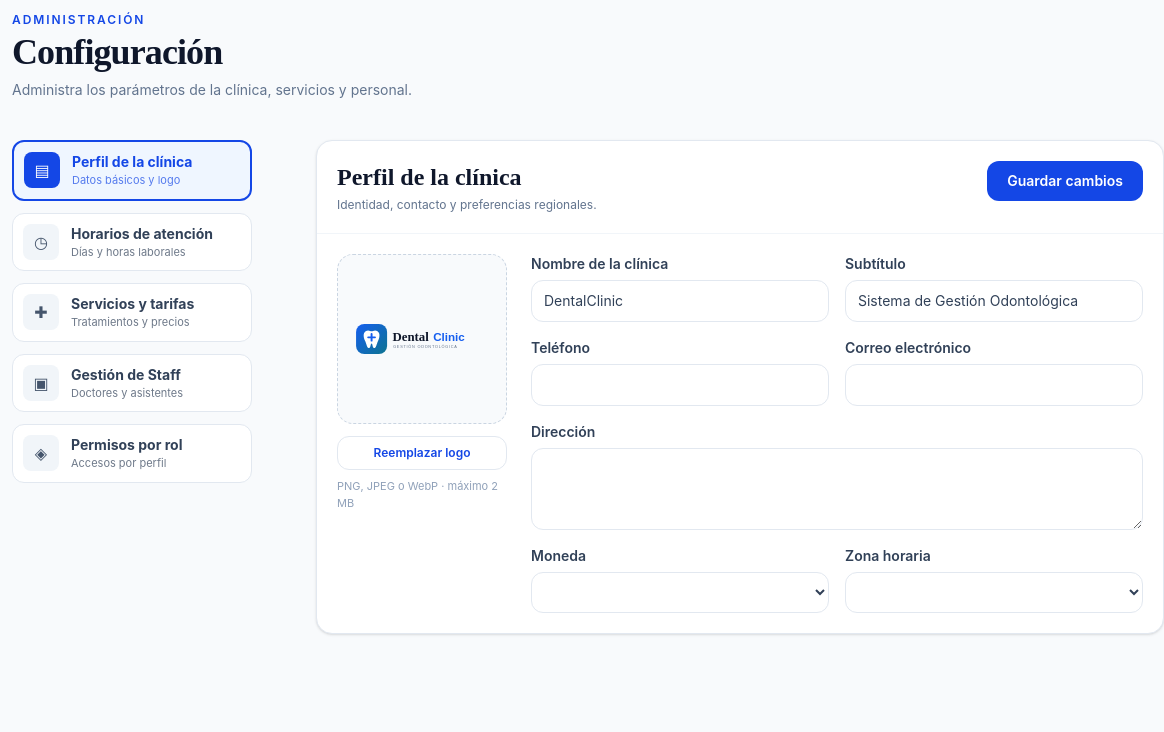
Scenario: SettingsPage staff management › switches from active users to archived users using backend filtering
Click the button "▣ Gestión de Staff Doctores y asistentes". click: (132, 383)
box: x1=12 y1=354 x2=252 y2=412
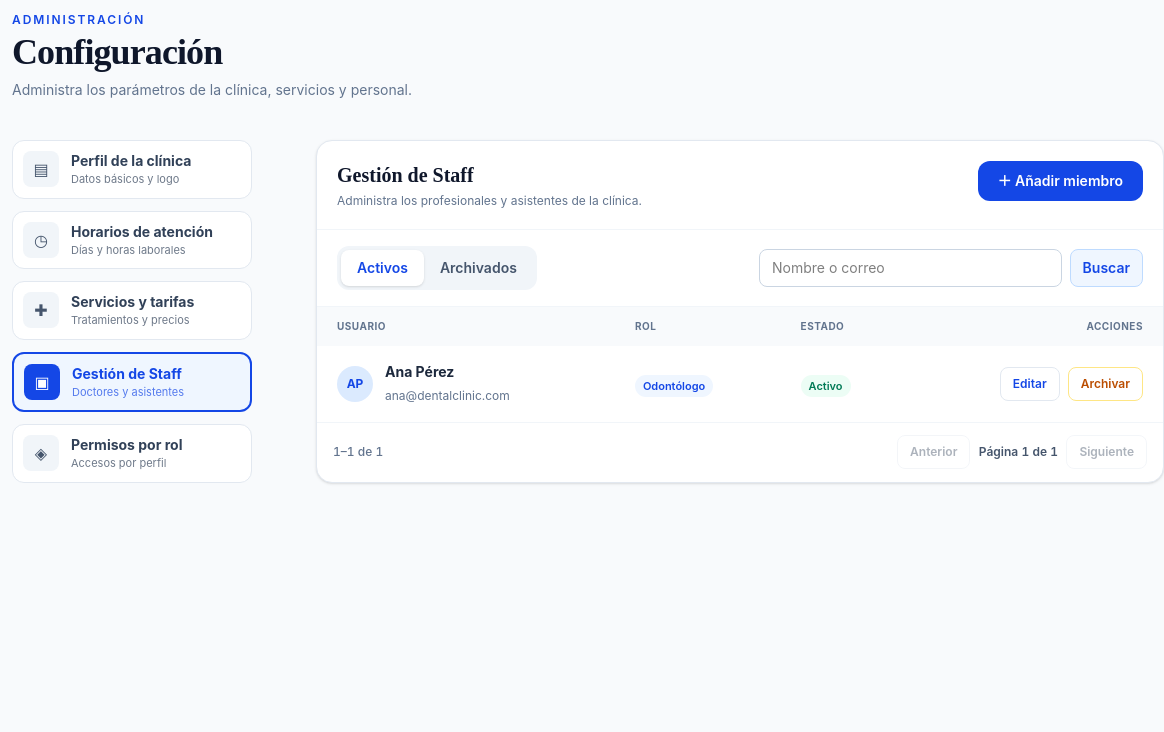
Check: the text "Paul Walker" is not shown
Check: the text "Ana Pérez" is shown, box x1=385 y1=363 x2=454 y2=380
Click the tab "Archivados". click: (478, 268)
box: x1=424 y1=250 x2=533 y2=286
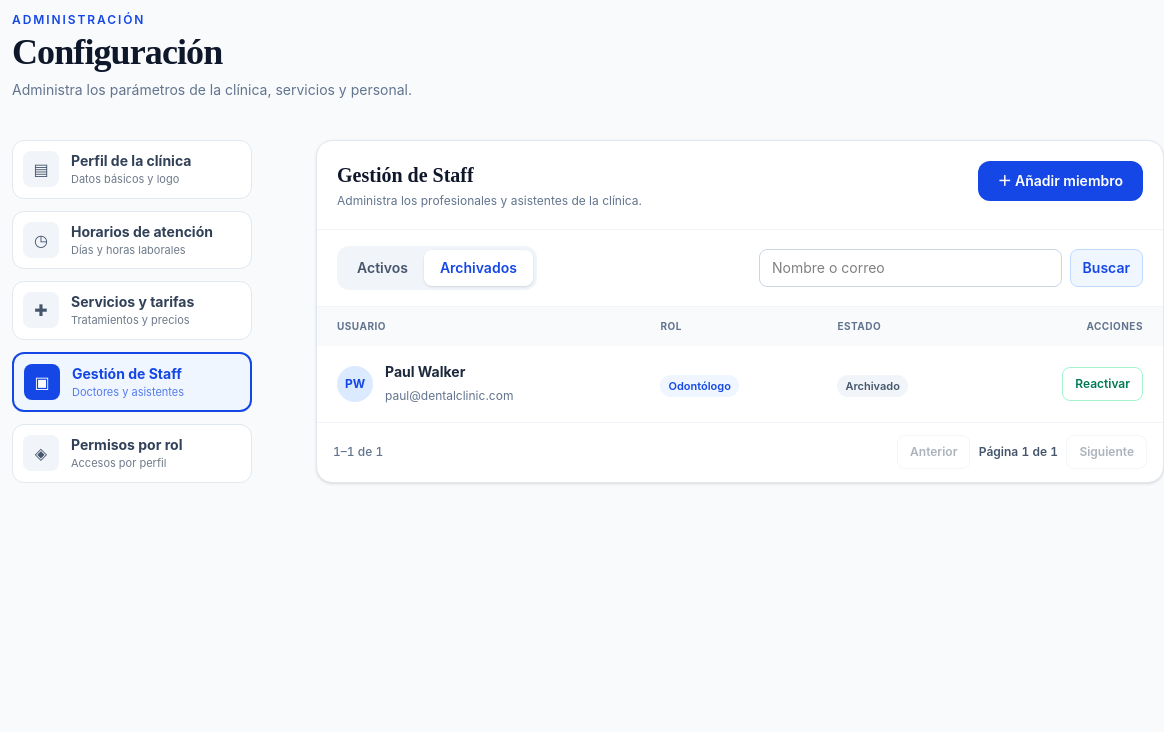
Check: the text "Paul Walker" is shown, box x1=385 y1=363 x2=465 y2=380
Check: the text "Ana Pérez" is gone
Check: the text "Archivado" is shown, box x1=837 y1=375 x2=908 y2=397
